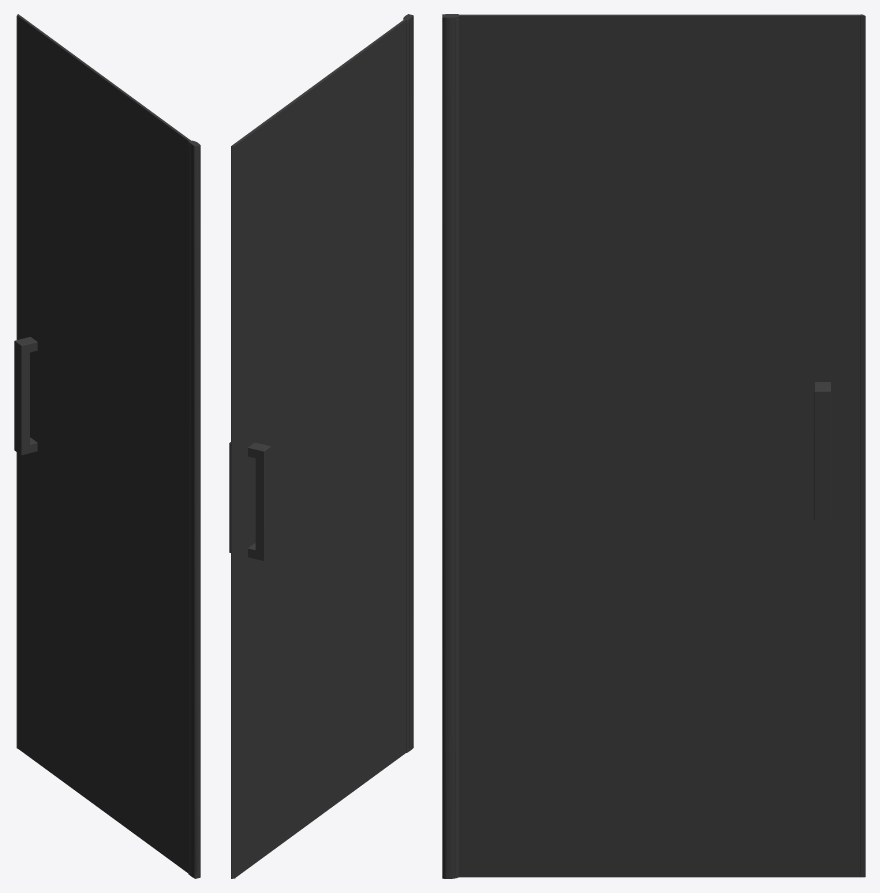
File: UNIB0801002.glb
3 renders of one model, left to right at view 1: azimuth 30°, elevation 25°; view 2: azimuth 150°, elevation 25°; view 3: azimuth 270°, elevation 25°, orthographic. The views are drawn at different scales.
Parts seen in each view (by area): view 1: Front__2, Body__0, Body__1, Sideglas__3; view 2: Front__2, Body__1, Body__0, Sideglas__3; view 3: Front__2, Body__0, Body__1.
Part boxes in pixels (box(x1,y1,x2,y2)): Front__2: box(18, 16, 188, 872); Body__0: box(188, 140, 200, 878); Body__1: box(14, 14, 190, 872); Sideglas__3: box(18, 15, 190, 140); Front__2: box(235, 20, 406, 877); Body__1: box(229, 22, 409, 878); Body__0: box(403, 14, 413, 752); Sideglas__3: box(233, 19, 405, 145); Front__2: box(459, 16, 860, 877); Body__0: box(442, 14, 458, 878); Body__1: box(455, 14, 865, 877).
Bounding box in the file's own units: 0.1 × 2 × 0.89.
1 material, 1 textured.
